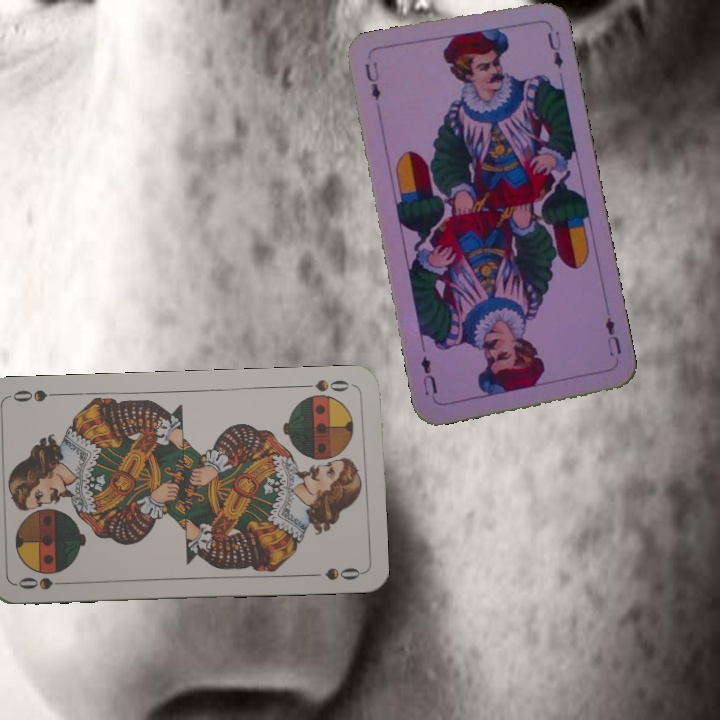EU: (601, 313, 624, 359), (361, 58, 383, 104)
SO: (15, 573, 73, 592), (297, 376, 356, 394)
